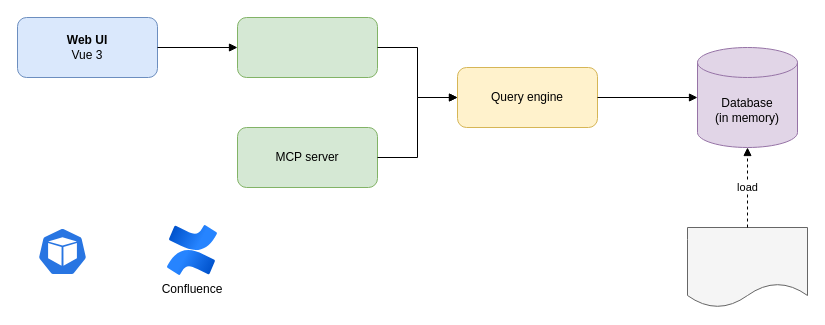
Some shapes in this 825 by 325 pixel diagram are drawn without their labels. The box of each missing label's shape, as (x1, y1, x2, y2) in pixels:
Helm chart: (36, 226, 88, 276)
REST API: (236, 16, 378, 78)
YAML and markdown files: (686, 226, 808, 308)
